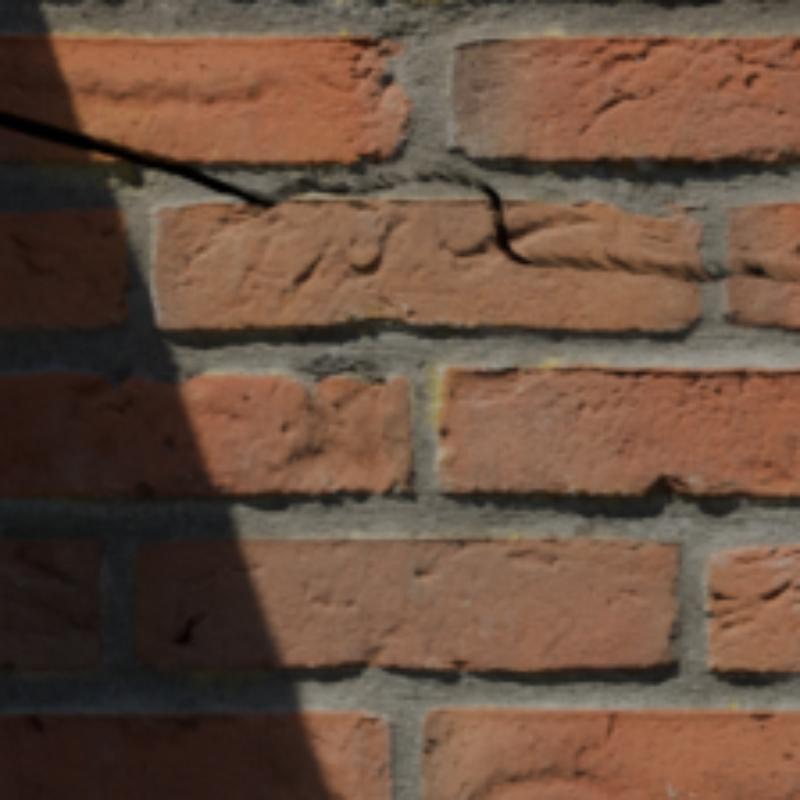crack: (0, 111, 796, 279)
